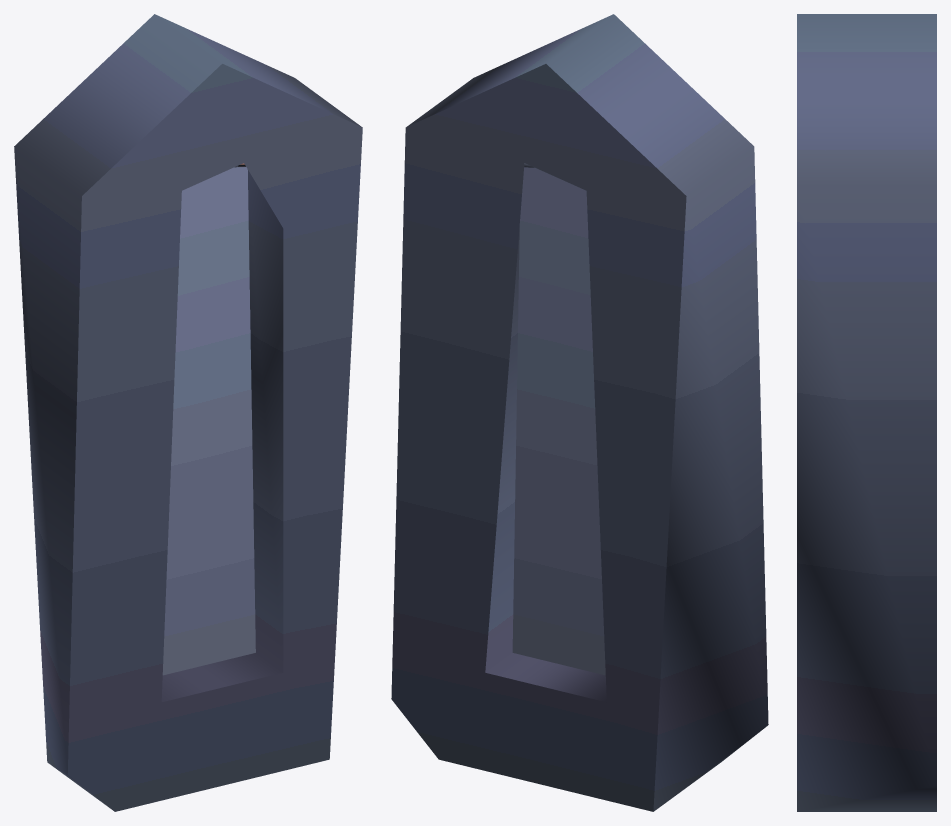
The model's file is crypt-door.glb.
3 renders of one model, left to right at view 1: azimuth 30°, elevation 25°; view 2: azimuth 150°, elevation 25°; view 3: azimuth 270°, elevation 25°, orthographic. The views are drawn at different scales.
Visible parts, largest first — view 1: door; view 2: door; view 3: door.
Boxes of the visible parts, x1,y1,x2,y2 form: door: (14, 14, 362, 811); door: (391, 14, 768, 811); door: (797, 14, 936, 811).
Size of the model in its own units: 0.3307 by 0.7378 by 0.1256.
1 material, 1 textured.
